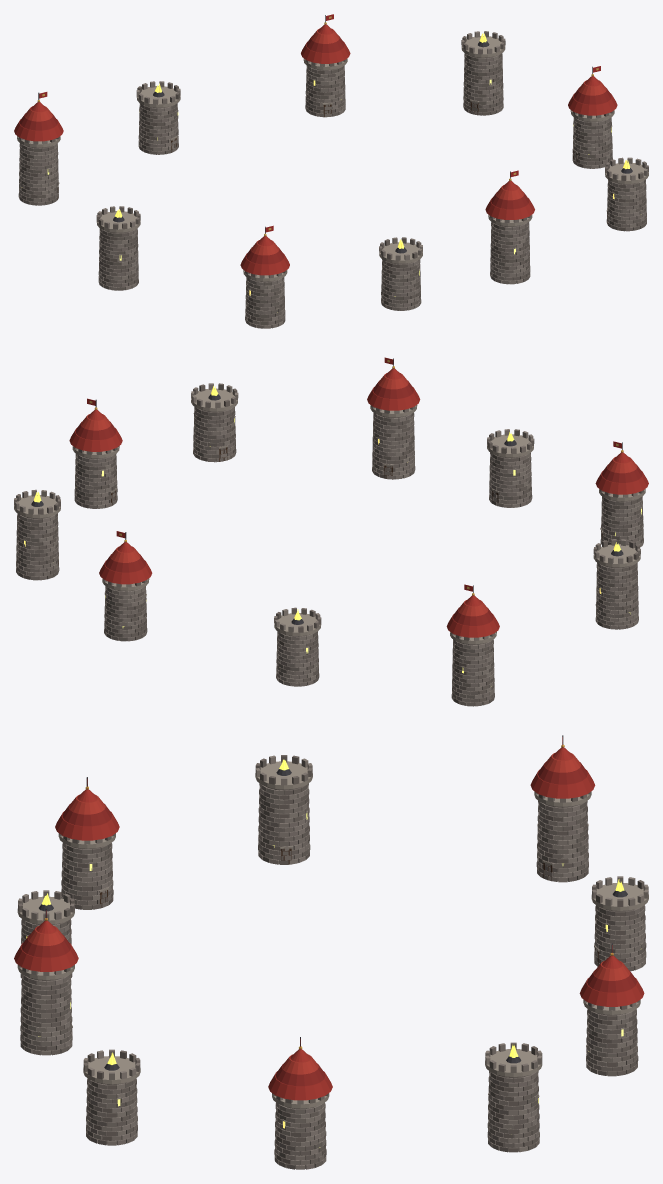
The model's file is towers-DiePBDd1.glb.
3 views of the same model, one above another, from view 1: azimuth 30°, elevation 25°; view 2: azimuth 150°, elevation 25°; view 3: azimuth 270°, elevation 25° (orthographic). The views are drawn at different scales.
Parts seen in each view (by area): view 1: tower_0, tower_6, tower_2, tower_8, tower_4, tower_3, tower_9, tower_1, tower_5, tower_7; view 2: tower_6, tower_0, tower_4, tower_2, tower_9, tower_3, tower_8, tower_1, tower_7, tower_5; view 3: tower_6, tower_0, tower_2, tower_4, tower_8, tower_3, tower_9, tower_5, tower_1, tower_7.
Boxes of the visible parts, bbox=[...] form: tower_0: bbox=[14, 92, 63, 205]; tower_6: bbox=[485, 171, 534, 284]; tower_2: bbox=[301, 15, 350, 117]; tower_8: bbox=[240, 226, 289, 328]; tower_4: bbox=[568, 66, 617, 168]; tower_3: bbox=[461, 31, 505, 115]; tower_9: bbox=[96, 206, 140, 290]; tower_1: bbox=[136, 81, 180, 154]; tower_5: bbox=[605, 157, 648, 231]; tower_7: bbox=[379, 237, 422, 310]; tower_6: bbox=[367, 358, 420, 479]; tower_0: bbox=[446, 585, 499, 706]; tower_4: bbox=[69, 399, 122, 508]; tower_2: bbox=[99, 532, 152, 641]; tower_9: bbox=[593, 539, 640, 629]; tower_3: bbox=[14, 489, 60, 580]; tower_8: bbox=[595, 442, 648, 547]; tower_1: bbox=[274, 607, 321, 686]; tower_7: bbox=[487, 429, 534, 507]; tower_5: bbox=[191, 383, 238, 462]; tower_6: bbox=[14, 908, 78, 1055]; tower_0: bbox=[530, 735, 595, 882]; tower_2: bbox=[579, 943, 644, 1076]; tower_4: bbox=[268, 1037, 332, 1169]; tower_8: bbox=[55, 777, 119, 909]; tower_3: bbox=[485, 1042, 542, 1152]; tower_9: bbox=[255, 755, 312, 864]; tower_5: bbox=[83, 1049, 140, 1145]; tower_1: bbox=[591, 876, 648, 971]; tower_7: bbox=[17, 890, 74, 978].
Bounding box in the file's own units: 95.39 × 18.3 × 77.45.
